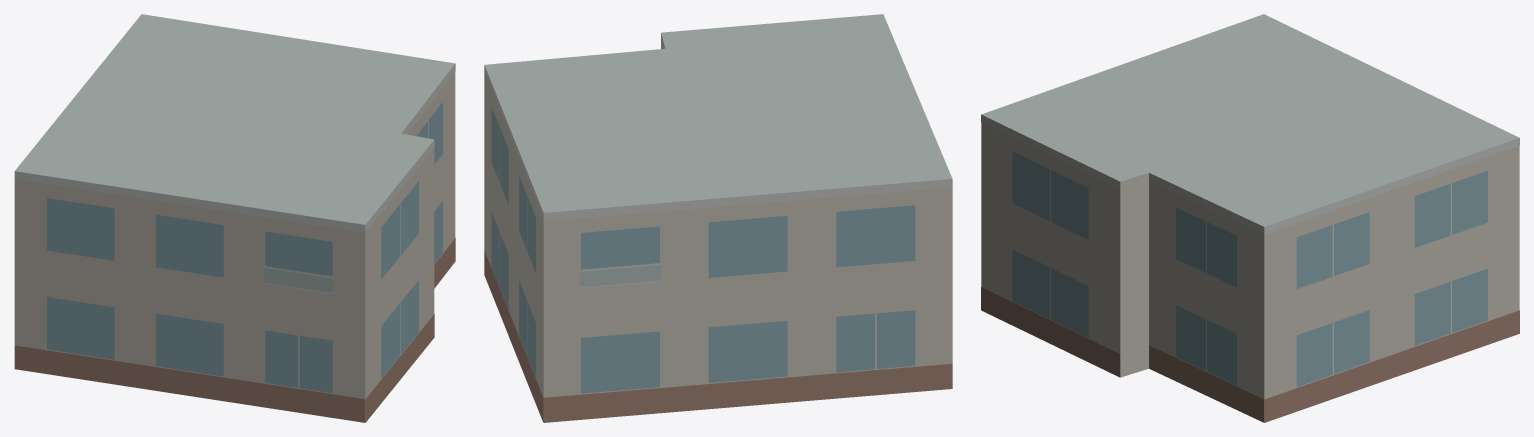
The model's file is survey-upis-33011464.glb.
3 views of the same model, side by side, from view 1: azimuth 30°, elevation 25°; view 2: azimuth 150°, elevation 25°; view 3: azimuth 270°, elevation 25° (orthographic). The views are drawn at different scales.
Visible parts, largest first — view 1: survey-upis-33011464.tmp; view 2: survey-upis-33011464.tmp; view 3: survey-upis-33011464.tmp.
Boxes of the visible parts, x1,y1,x2,y2 form: survey-upis-33011464.tmp: (14, 14, 455, 422); survey-upis-33011464.tmp: (484, 14, 952, 422); survey-upis-33011464.tmp: (981, 14, 1519, 422).
Size of the model in its own units: 14.23 by 6.1 by 15.21.
